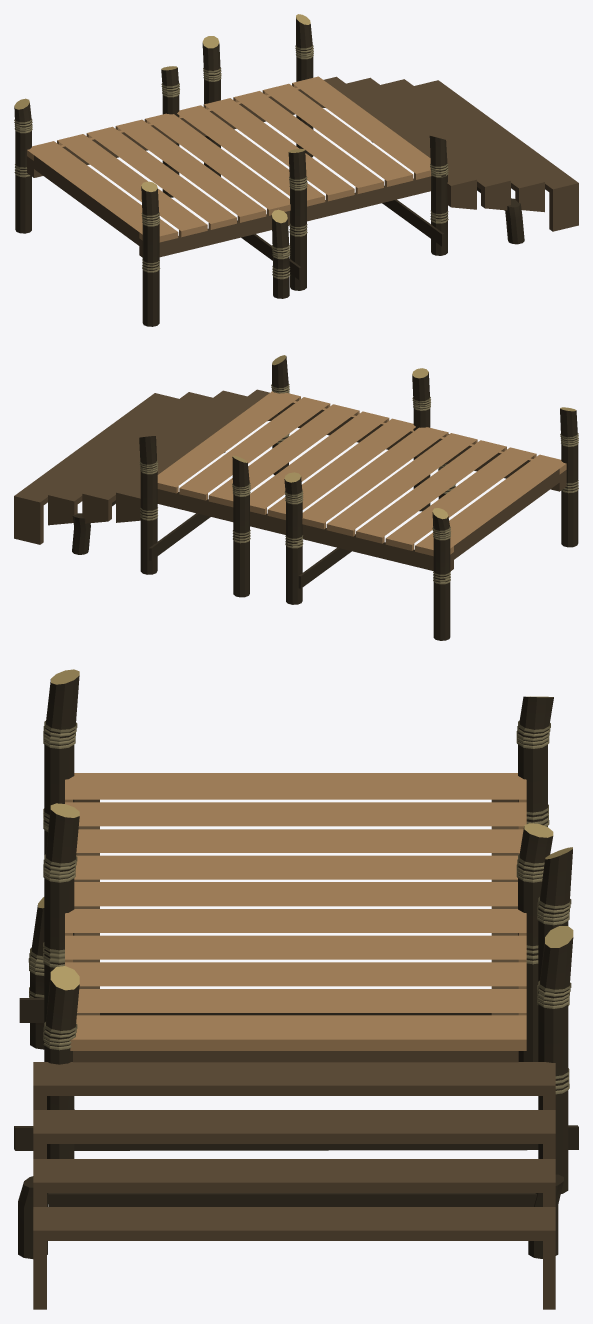
File: PierPequeno.fbx
3 views of the same model, one above another, from view 1: azimuth 30°, elevation 25°; view 2: azimuth 150°, elevation 25°; view 3: azimuth 270°, elevation 25° (orthographic). The views are drawn at different scales.
Visible parts, largest first — view 1: polySurface197, polySurface201, polySurface234, polySurface213, polySurface235, polySurface212, polySurface214, polySurface218, polySurface221, polySurface217, polySurface230, polySurface232 (+1 smaller); view 2: polySurface197, polySurface201, polySurface218, polySurface234, polySurface221, polySurface235, polySurface217, polySurface213, polySurface230, polySurface212, polySurface229, polySurface233; view 3: polySurface197, polySurface201, polySurface231, polySurface221, polySurface213, polySurface217, polySurface234, polySurface230, polySurface212, polySurface235, polySurface218, polySurface229 (+2 smaller).
Boxes of the visible parts, box(x1,y1,x2,y2) form: polySurface197: box(27, 76, 431, 257); polySurface201: box(322, 76, 578, 231); polySurface234: box(141, 181, 160, 326); polySurface213: box(288, 148, 307, 290); polySurface235: box(14, 98, 32, 233); polySurface212: box(429, 136, 448, 255); polySurface214: box(271, 209, 290, 298); polySurface218: box(202, 36, 221, 176); polySurface221: box(295, 14, 313, 157); polySurface217: box(161, 66, 179, 197); polySurface230: box(382, 199, 443, 246); polySurface232: box(505, 198, 524, 244); polySurface197: box(157, 391, 566, 570); polySurface201: box(14, 389, 269, 544); polySurface218: box(232, 455, 250, 597); polySurface234: box(560, 407, 578, 547); polySurface221: box(139, 436, 158, 574); polySurface235: box(432, 508, 450, 640); polySurface217: box(284, 472, 303, 604); polySurface213: box(412, 368, 430, 511); polySurface230: box(149, 513, 210, 560); polySurface212: box(271, 355, 289, 475); polySurface229: box(298, 534, 355, 588); polySurface233: box(72, 513, 90, 554); polySurface197: box(65, 773, 526, 1062); polySurface201: box(33, 1062, 555, 1309); polySurface231: box(48, 1193, 537, 1206); polySurface221: box(537, 926, 573, 1193); polySurface213: box(43, 803, 79, 1022); polySurface217: box(516, 823, 553, 1061); polySurface234: box(43, 669, 79, 854); polySurface230: box(14, 1125, 578, 1150); polySurface212: box(43, 966, 79, 1158); polySurface235: box(516, 696, 553, 826); polySurface218: box(537, 847, 572, 1005); polySurface229: box(19, 998, 491, 1022).
Size of the model in its own units: 13.76 by 4.26 by 8.45.
